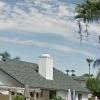Chimney: (33, 42, 61, 89)
